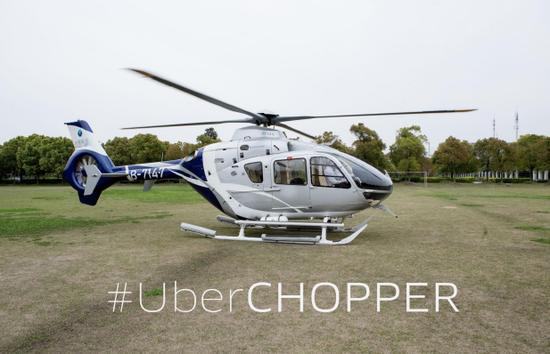airplane: (55, 65, 482, 254)
